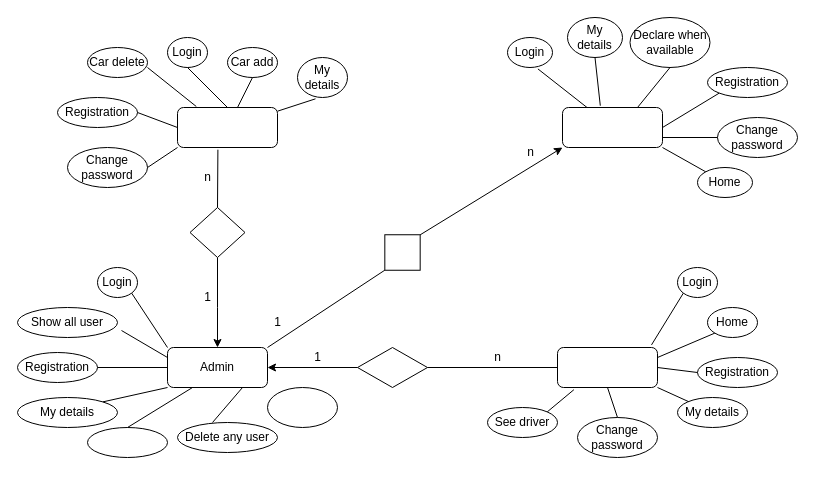
Some shapes in this 815 by 483 pixel diagram are drawn without their labels. Each missing label, with the box of its shape:
Car Owner: (176, 106, 278, 148)
Customer: (556, 346, 658, 388)
Delete car post: (266, 386, 338, 428)
Driver: (562, 106, 662, 148)
Edit all user: (86, 426, 168, 458)
give rent: (189, 206, 245, 258)
has to: (366, 216, 438, 288)
take rent: (356, 346, 428, 388)
